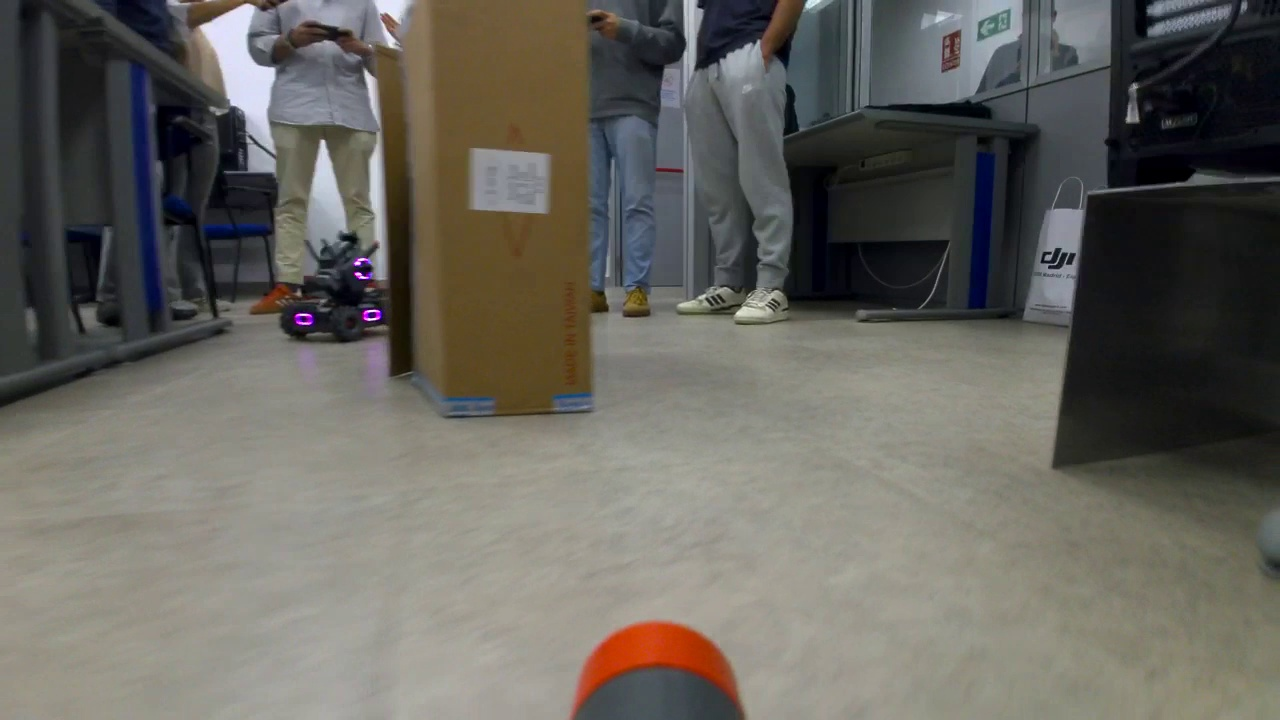robot: (279, 231, 394, 343)
